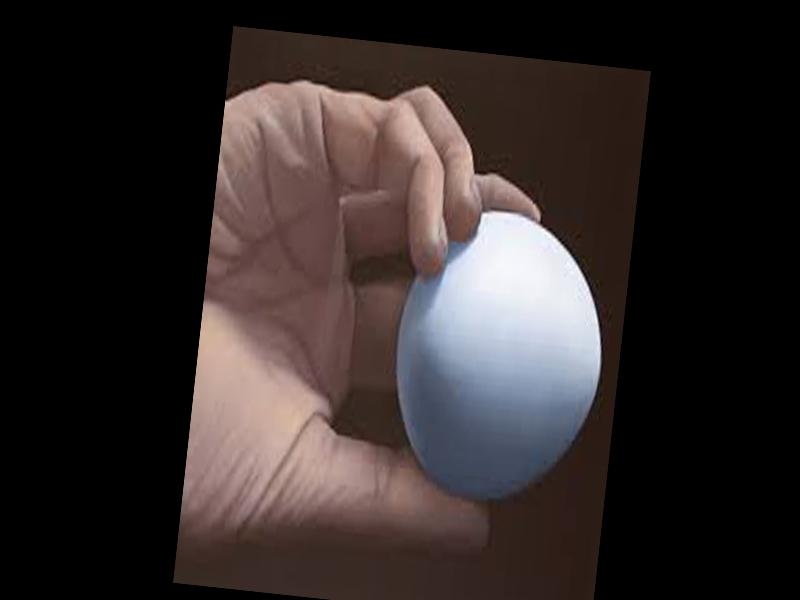Eggs: (384, 199, 618, 508)
